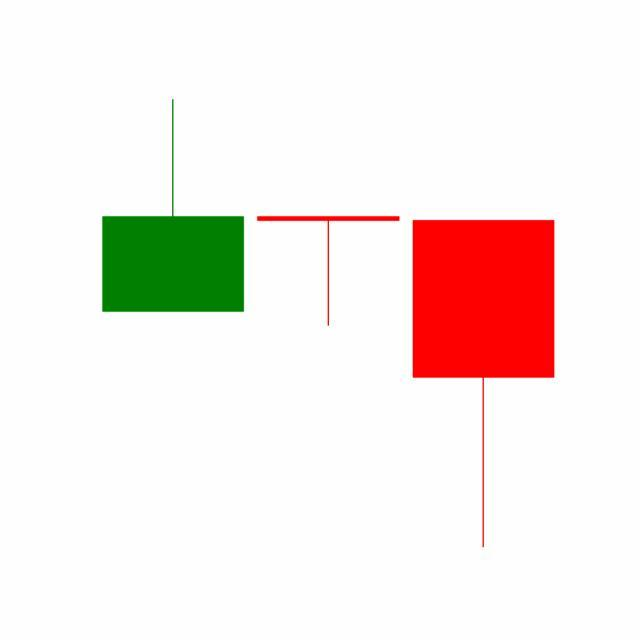Hammer: (250, 215, 407, 328)
